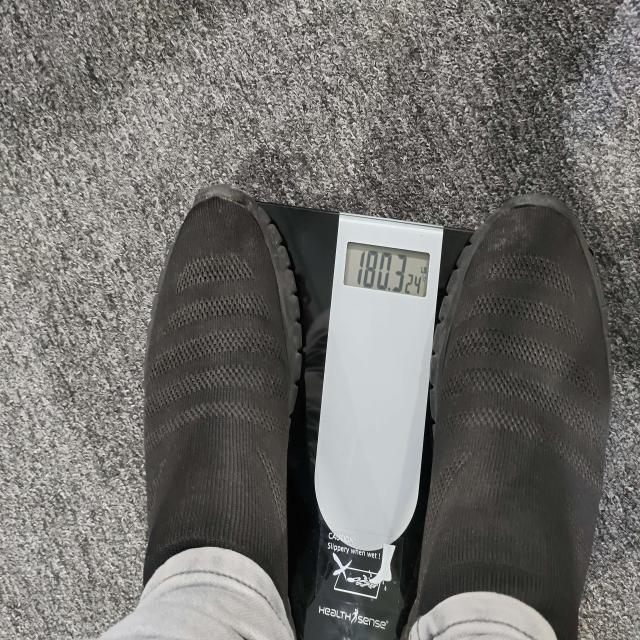ws: (313, 215, 469, 634)
